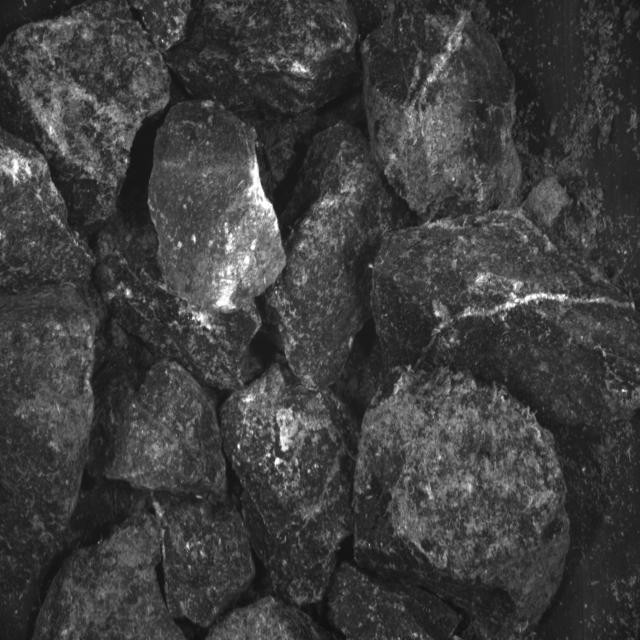Stones: (374, 211, 640, 427), (355, 370, 570, 635), (1, 4, 171, 230), (267, 124, 407, 390), (1, 286, 96, 639), (364, 14, 522, 221), (222, 365, 357, 605), (97, 215, 262, 392), (150, 101, 286, 314), (167, 1, 359, 115), (35, 514, 185, 640), (104, 362, 227, 496), (1, 129, 95, 294), (35, 542, 185, 640), (162, 501, 256, 627), (330, 564, 462, 640), (254, 112, 320, 204), (207, 597, 327, 640), (131, 1, 192, 53)
